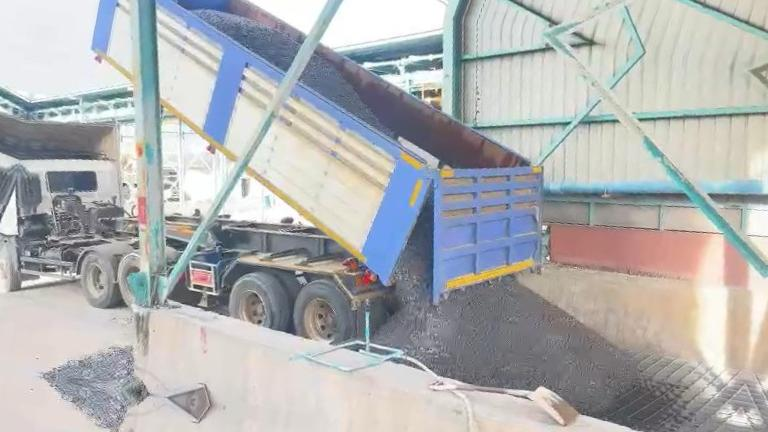gravel: (375, 202, 636, 414), (300, 55, 395, 137), (193, 10, 299, 70), (43, 347, 147, 394)
